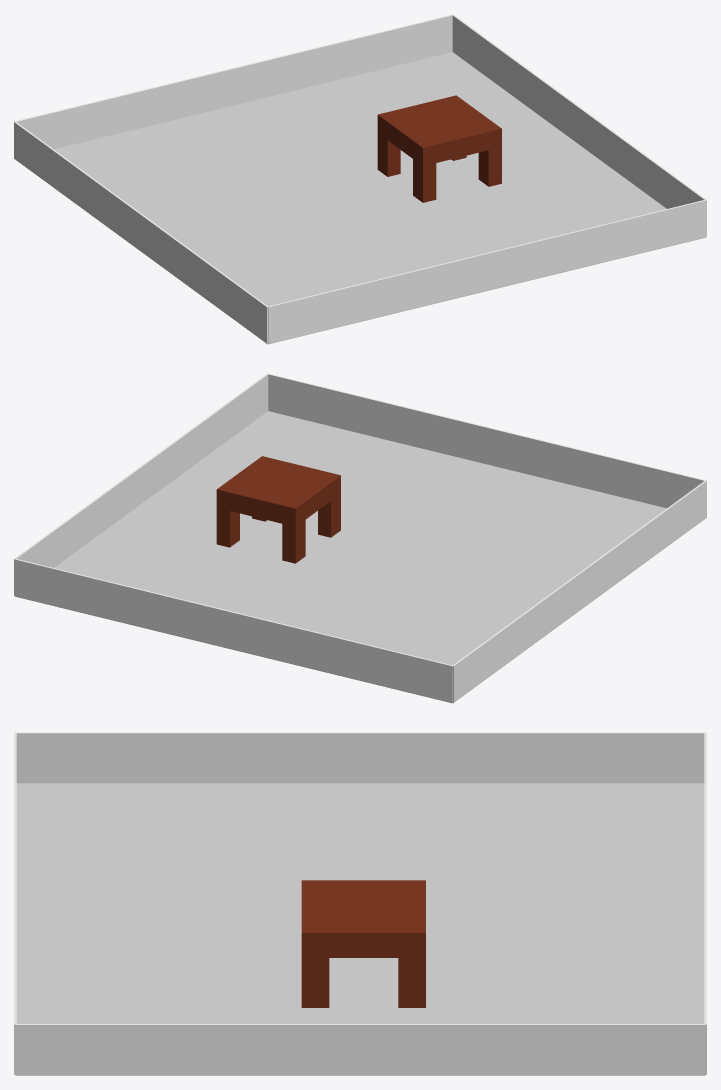
3 renders of one model, top to bottom at view 1: azimuth 30°, elevation 25°; view 2: azimuth 150°, elevation 25°; view 3: azimuth 270°, elevation 25°, orthographic. The views are drawn at different scales.
Visible parts, largest first — view 1: _dummylink0_ (×5), base (×4); view 2: _dummylink0_ (×5), base (×4); view 3: _dummylink0_ (×5), base (×3).
Part boxes in pixels (left/top/right/bottom): _dummylink0_ (×5): left=14, top=14, right=706, bottom=344; base (×4): left=377, top=95, right=501, bottom=202; _dummylink0_ (×5): left=14, top=373, right=706, bottom=703; base (×4): left=216, top=456, right=340, bottom=563; _dummylink0_ (×5): left=14, top=732, right=706, bottom=1075; base (×3): left=301, top=880, right=425, bottom=1007.
Bounding box in the file's own units: 5.02 × 5.02 × 0.6144.
